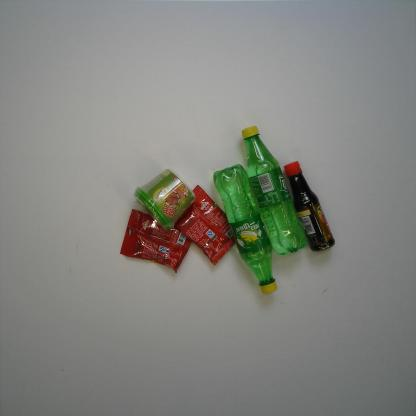Drink: (241, 125, 308, 257), (212, 162, 278, 294)
Instant Drink: (174, 184, 236, 266), (119, 209, 192, 274), (132, 166, 196, 231)
Seasoner: (284, 160, 336, 254)
